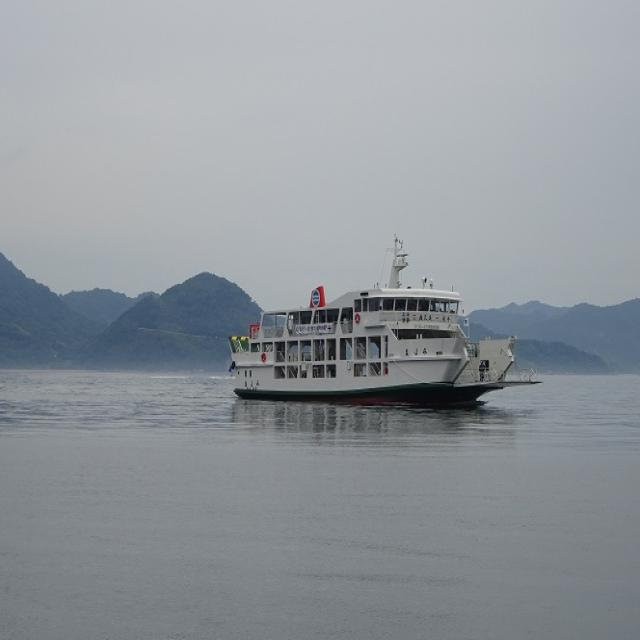houseboat: (183, 254, 542, 393)
